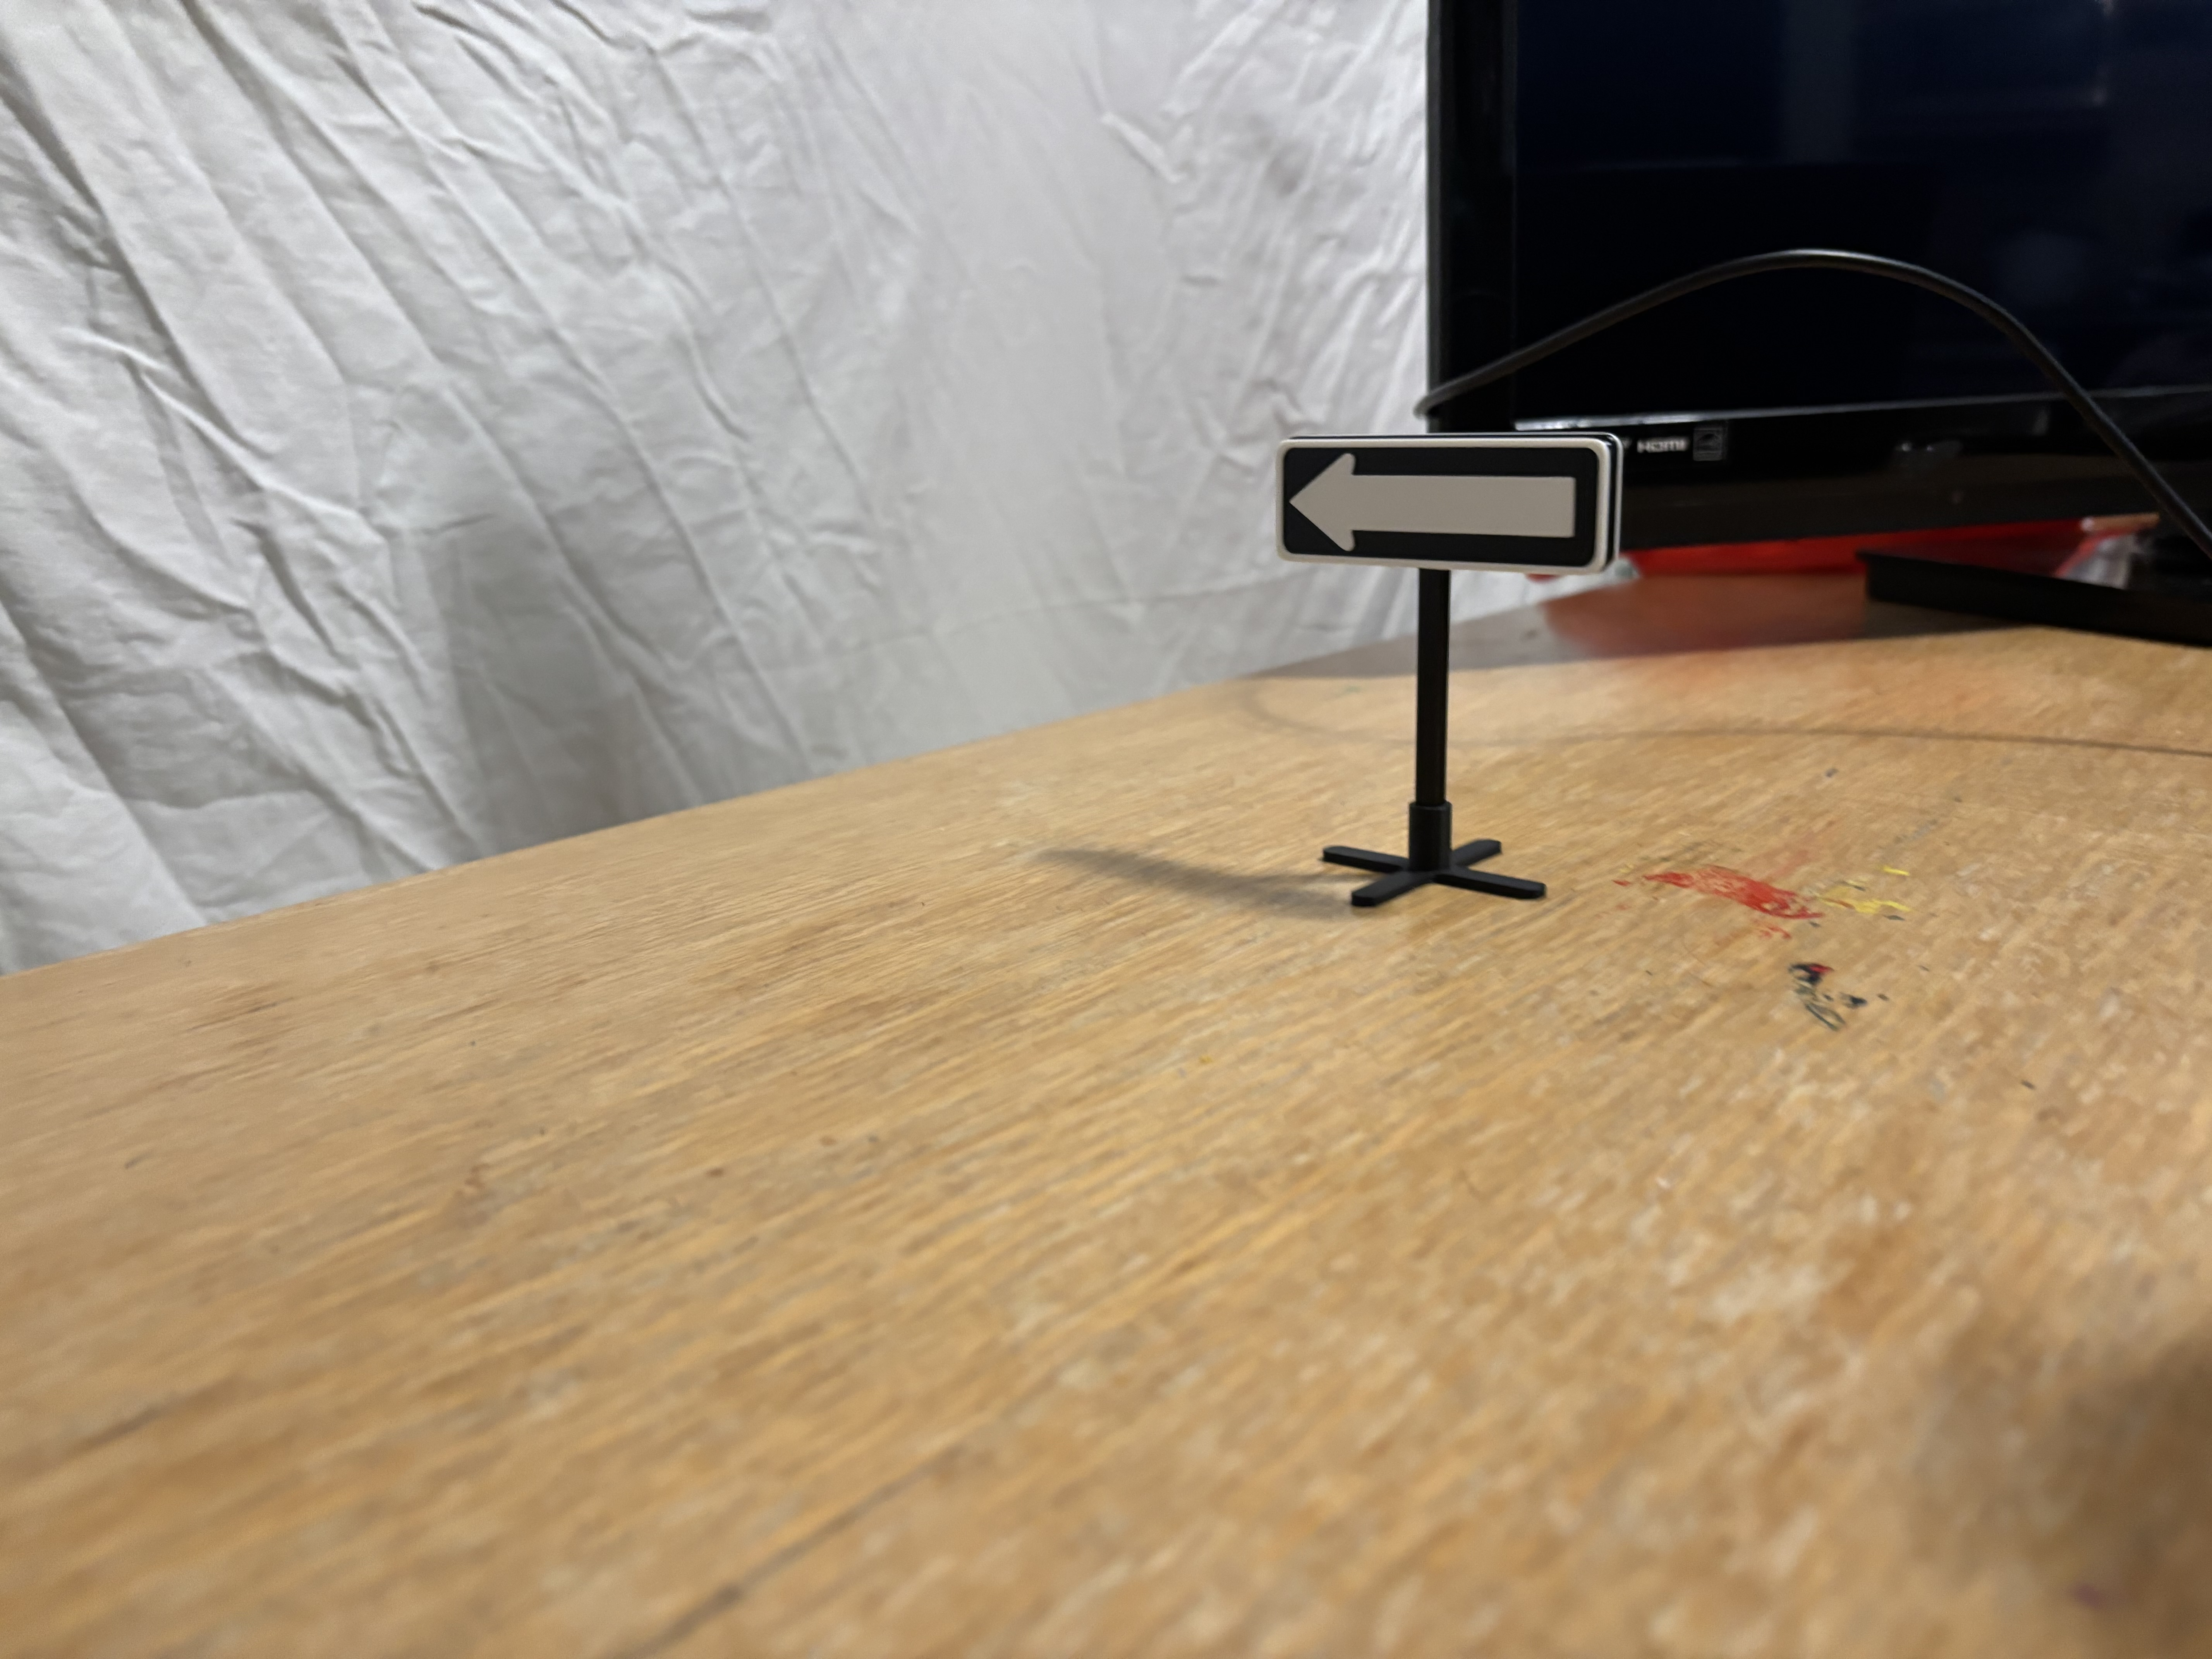sign_oneway_left: (1261, 432, 1634, 608)
